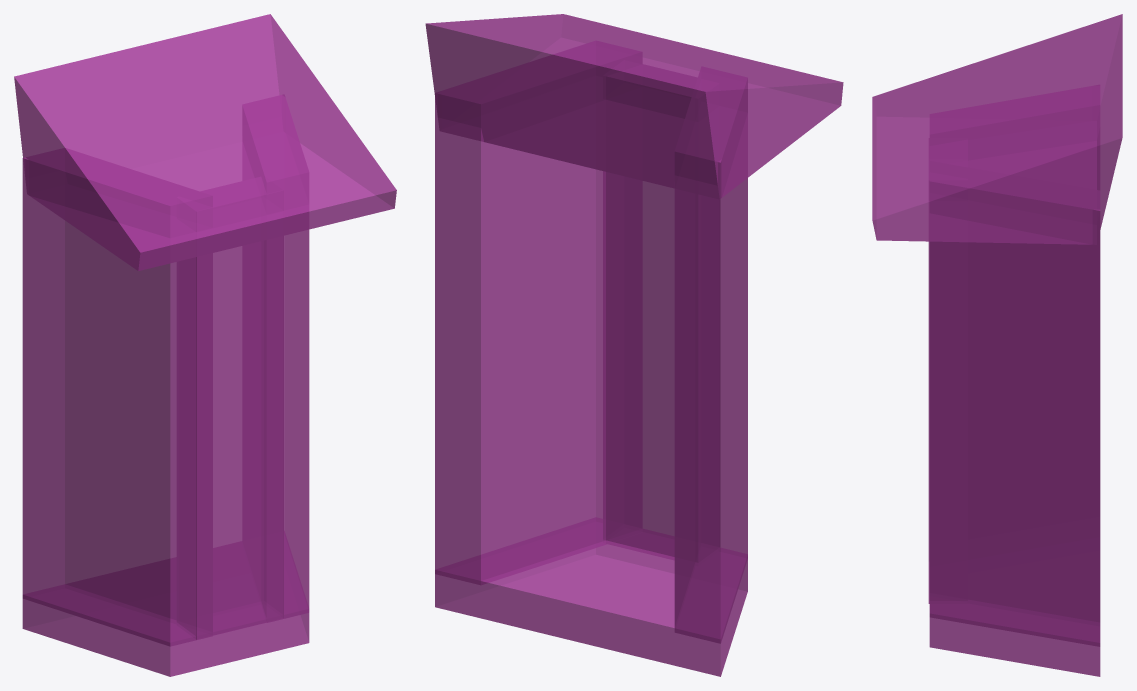
The model's file is SM_Bld_Window_Bay_01_Collision.fbx.
The picture shows the model from 3 angles, left to right: view 1: azimuth 30°, elevation 25°; view 2: azimuth 150°, elevation 25°; view 3: azimuth 270°, elevation 25°; orthographic projection. The views are drawn at different scales.
Parts seen in each view (by area): view 1: SM_Bld_Window_Bay_01_Collision; view 2: SM_Bld_Window_Bay_01_Collision; view 3: SM_Bld_Window_Bay_01_Collision.
Part boxes in pixels (x1,y1,x2,y2): SM_Bld_Window_Bay_01_Collision: (14, 14, 396, 676); SM_Bld_Window_Bay_01_Collision: (425, 14, 843, 676); SM_Bld_Window_Bay_01_Collision: (872, 14, 1122, 676).
Bounding box in the file's own units: 197 × 390 × 164.
